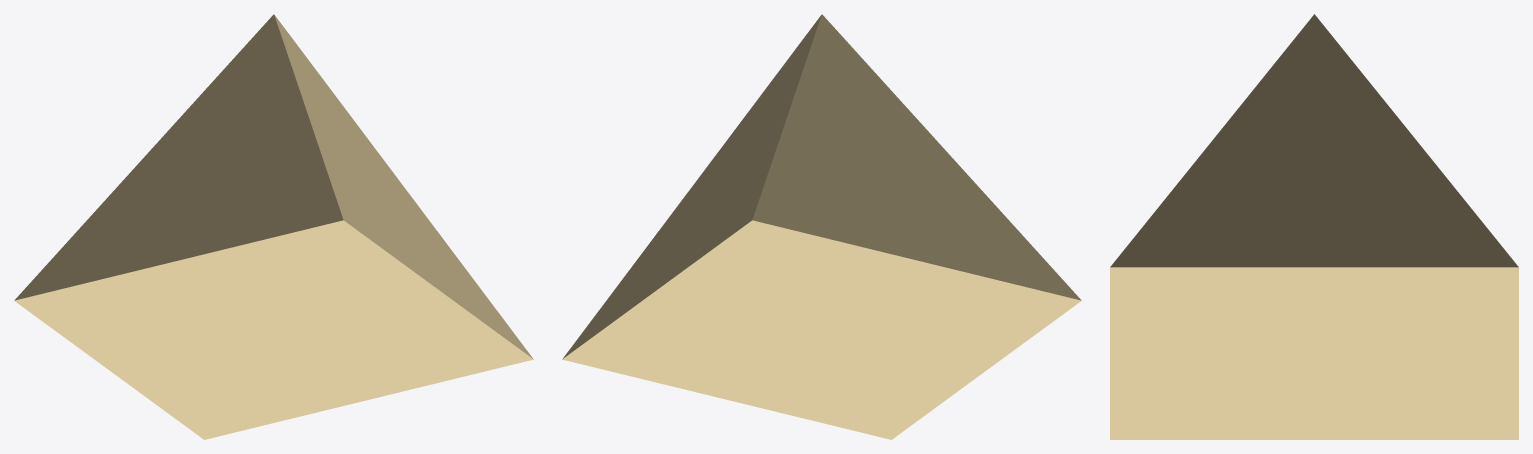
Rendered from pack2-3d-model.gltf.
The picture shows the model from 3 angles, left to right: view 1: azimuth 30°, elevation 25°; view 2: azimuth 150°, elevation 25°; view 3: azimuth 270°, elevation 25°; orthographic projection. The views are drawn at different scales.
Visible parts, largest first — view 1: proof-pack-wandering-swordsman-draws-his-blade-sumi-e-motio; view 2: proof-pack-wandering-swordsman-draws-his-blade-sumi-e-motio; view 3: proof-pack-wandering-swordsman-draws-his-blade-sumi-e-motio.
Boxes of the visible parts, left/top/right/bottom form: proof-pack-wandering-swordsman-draws-his-blade-sumi-e-motio: left=14, top=14, right=533, bottom=439; proof-pack-wandering-swordsman-draws-his-blade-sumi-e-motio: left=562, top=14, right=1081, bottom=439; proof-pack-wandering-swordsman-draws-his-blade-sumi-e-motio: left=1110, top=14, right=1518, bottom=439.
Size of the model in its own units: 1.2 by 1.1 by 1.2.
